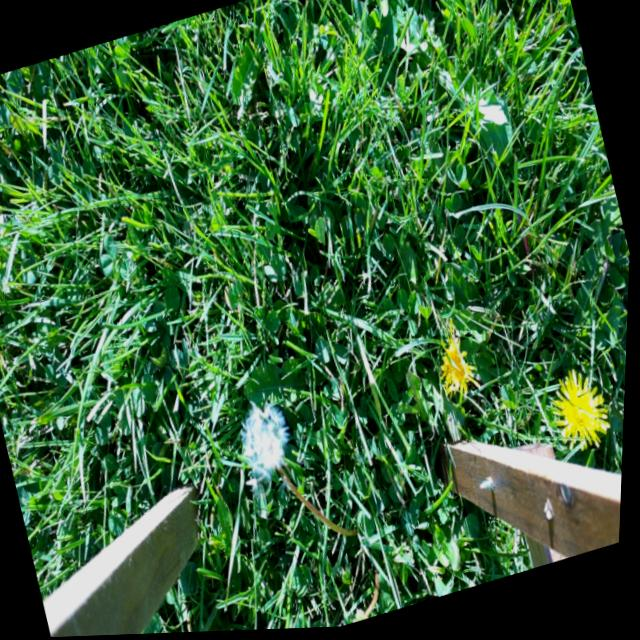base: (343, 515, 372, 554)
flower: (543, 370, 622, 462), (233, 395, 302, 486), (428, 329, 486, 412)
